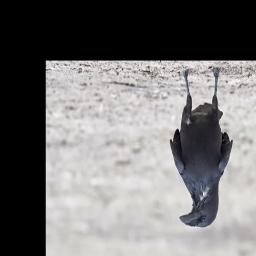Crow: (168, 66, 234, 229)
